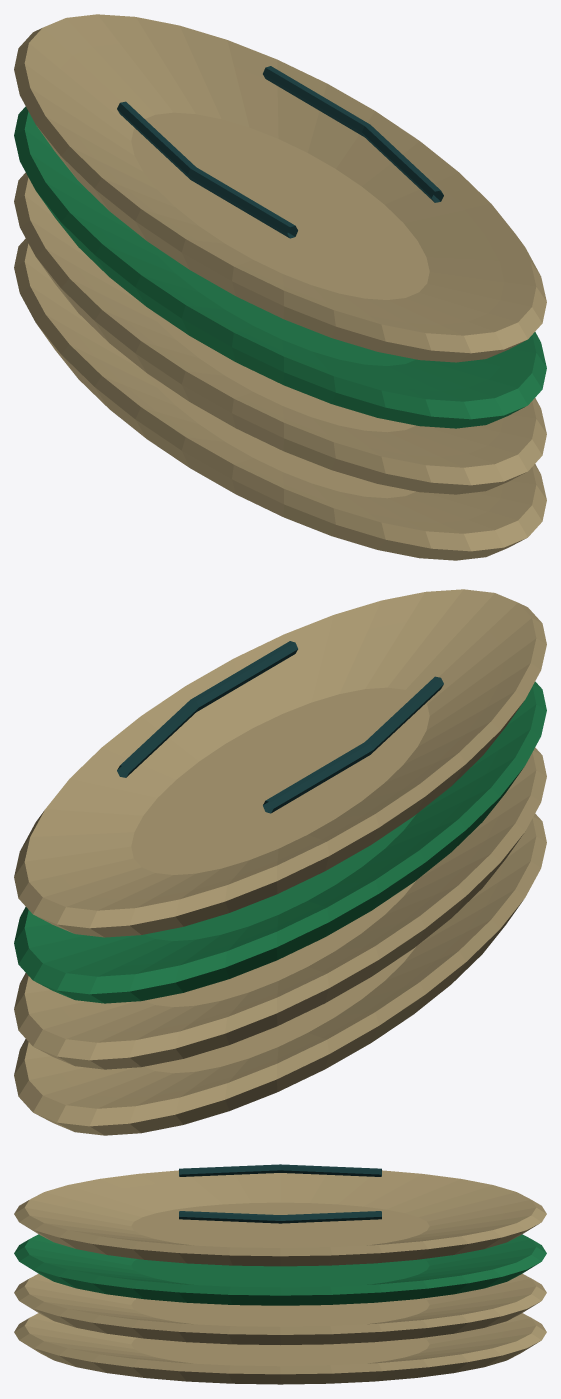
Rendered from panel_r5_restaurant_entry_dishes.fbx.
The picture shows the model from 3 angles, top to bottom: view 1: azimuth 30°, elevation 25°; view 2: azimuth 150°, elevation 25°; view 3: azimuth 270°, elevation 25°; orthographic projection. The views are drawn at different scales.
Parts seen in each view (by area): view 1: Part_0; view 2: Part_0; view 3: Part_0.
Part boxes in pixels (x1,y1,x2,y2): Part_0: [14, 14, 546, 560]; Part_0: [14, 589, 546, 1135]; Part_0: [14, 1164, 546, 1384].
Size of the model in its own units: 0.9 by 0.8 by 2.4.
